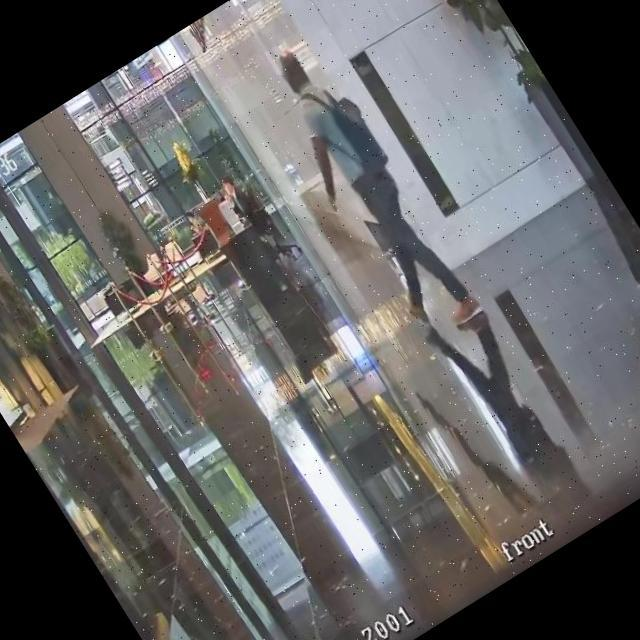person: (248, 32, 487, 350), (212, 168, 260, 224), (182, 207, 205, 234)
